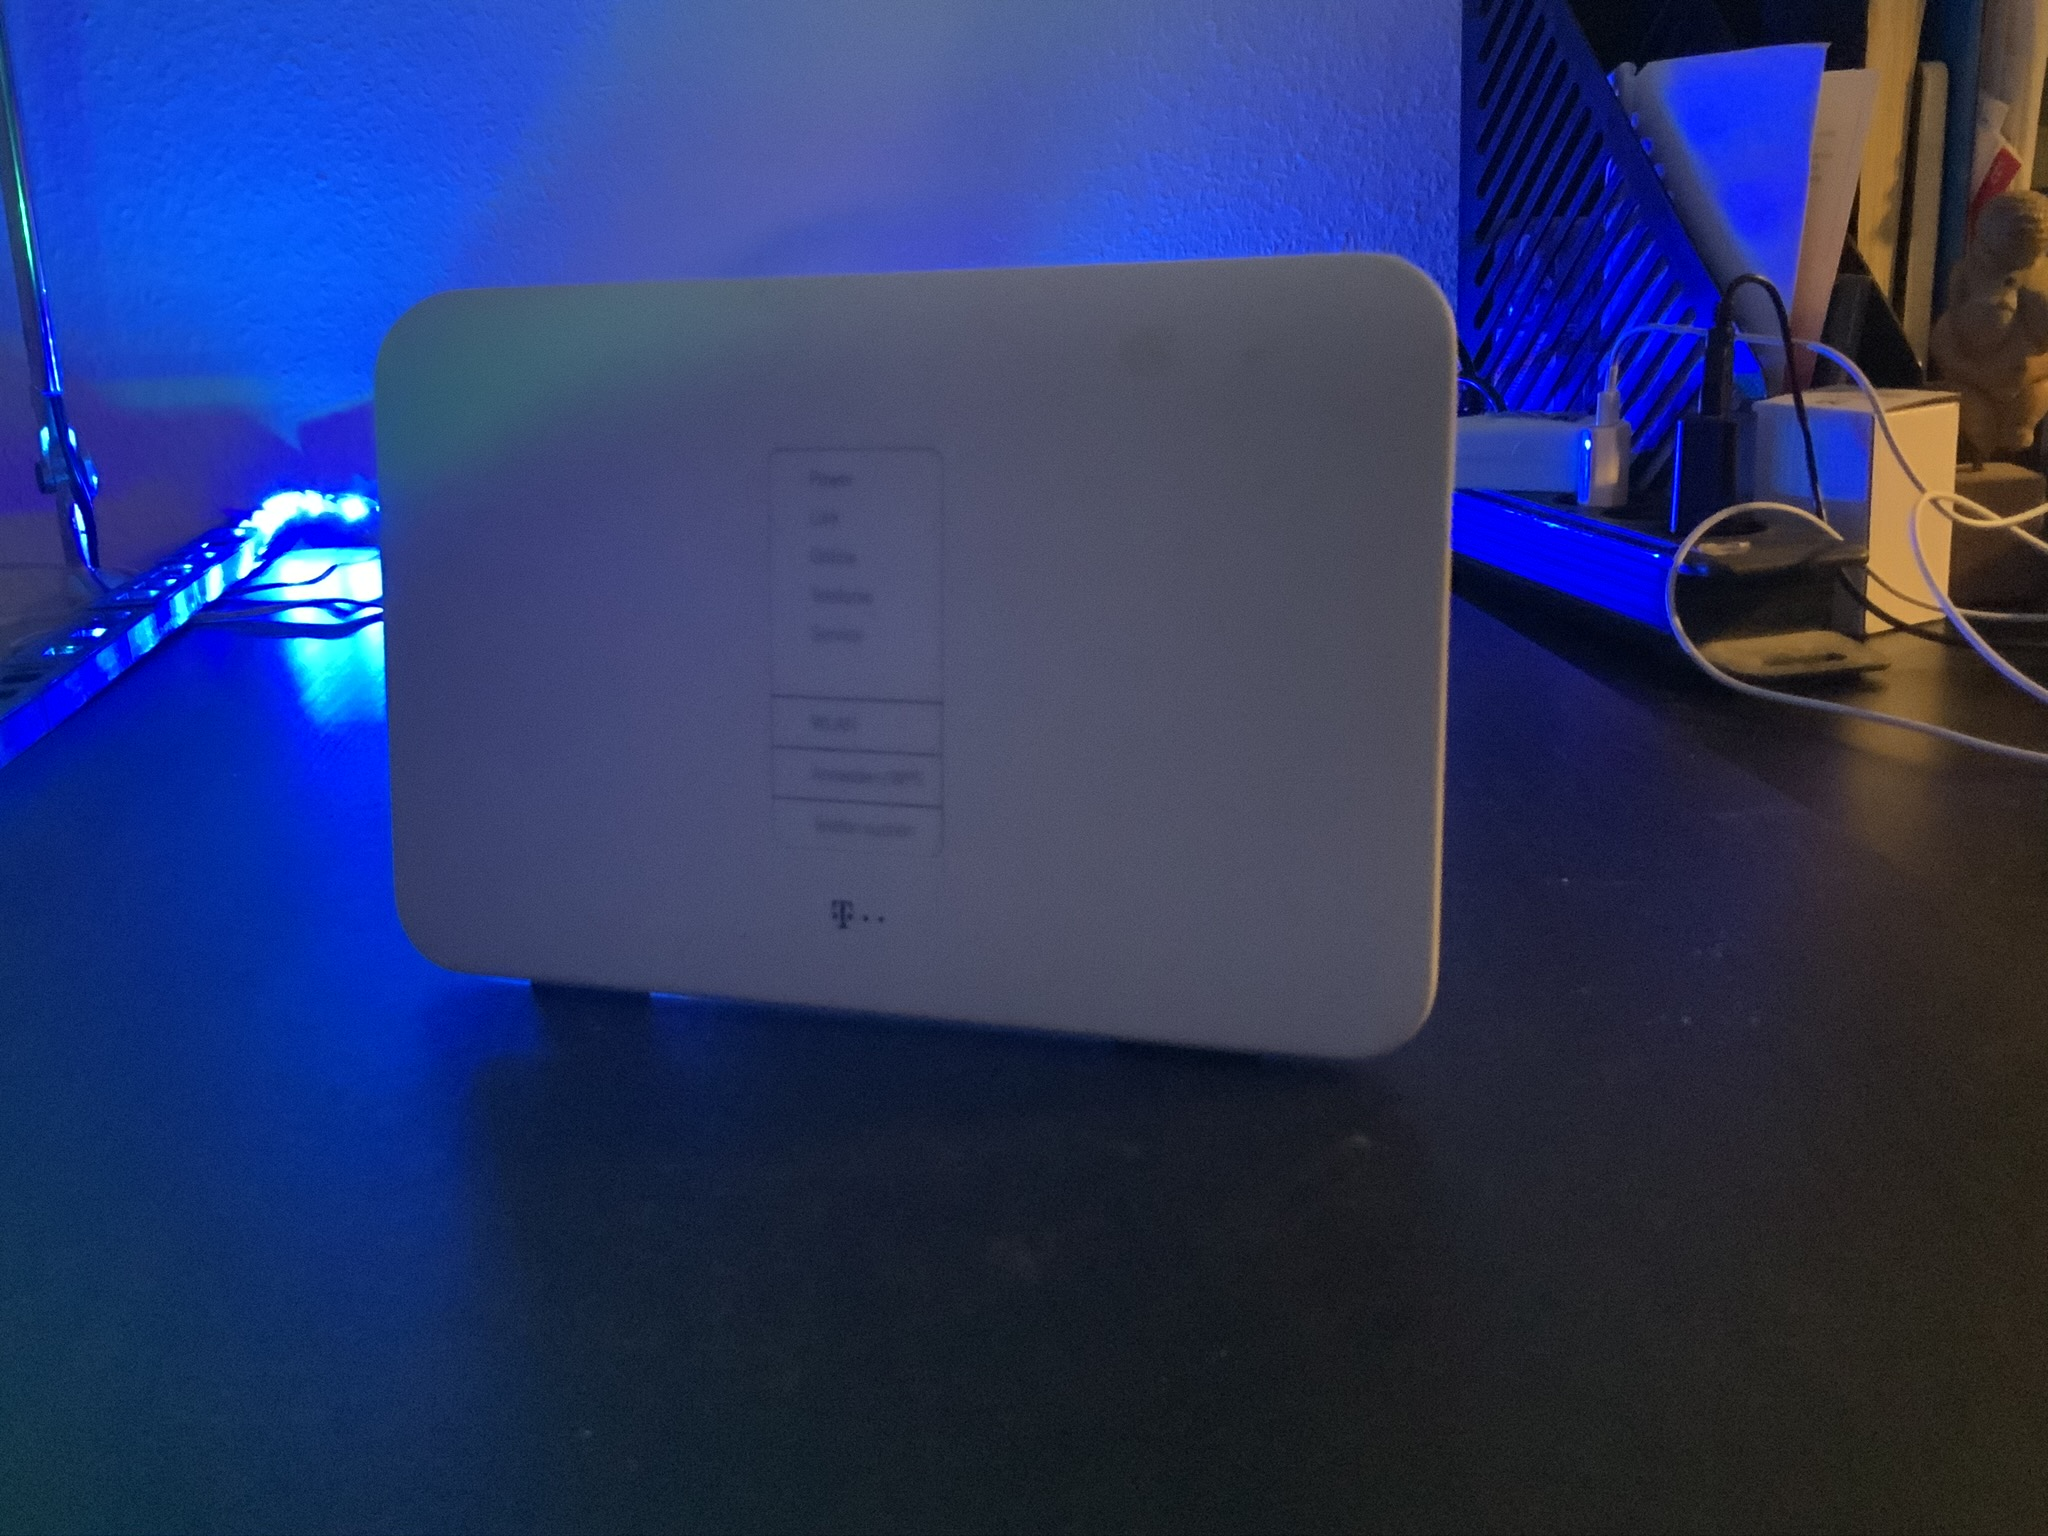router: (376, 245, 1459, 1063)
